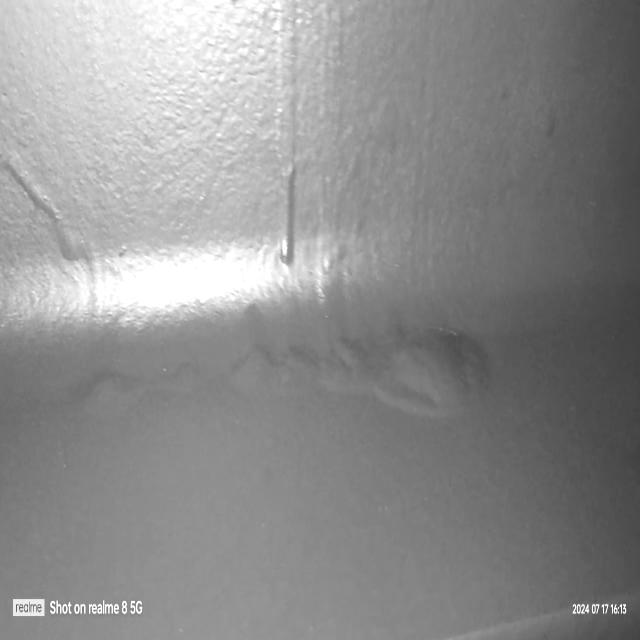paint drips: (4, 125, 102, 276), (260, 0, 312, 280)
